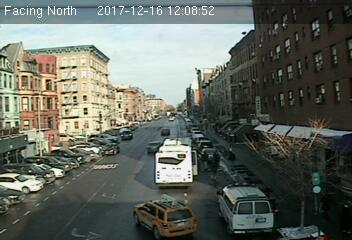bus: (155, 138, 197, 189)
car: (133, 194, 200, 238), (200, 148, 221, 165), (101, 142, 120, 157), (146, 141, 161, 153)
police: (215, 182, 278, 235)
